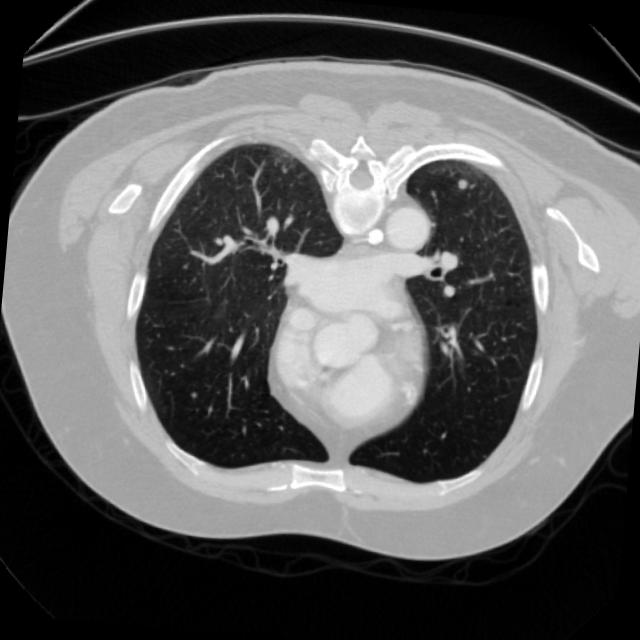nodule: (446, 170, 474, 198)
